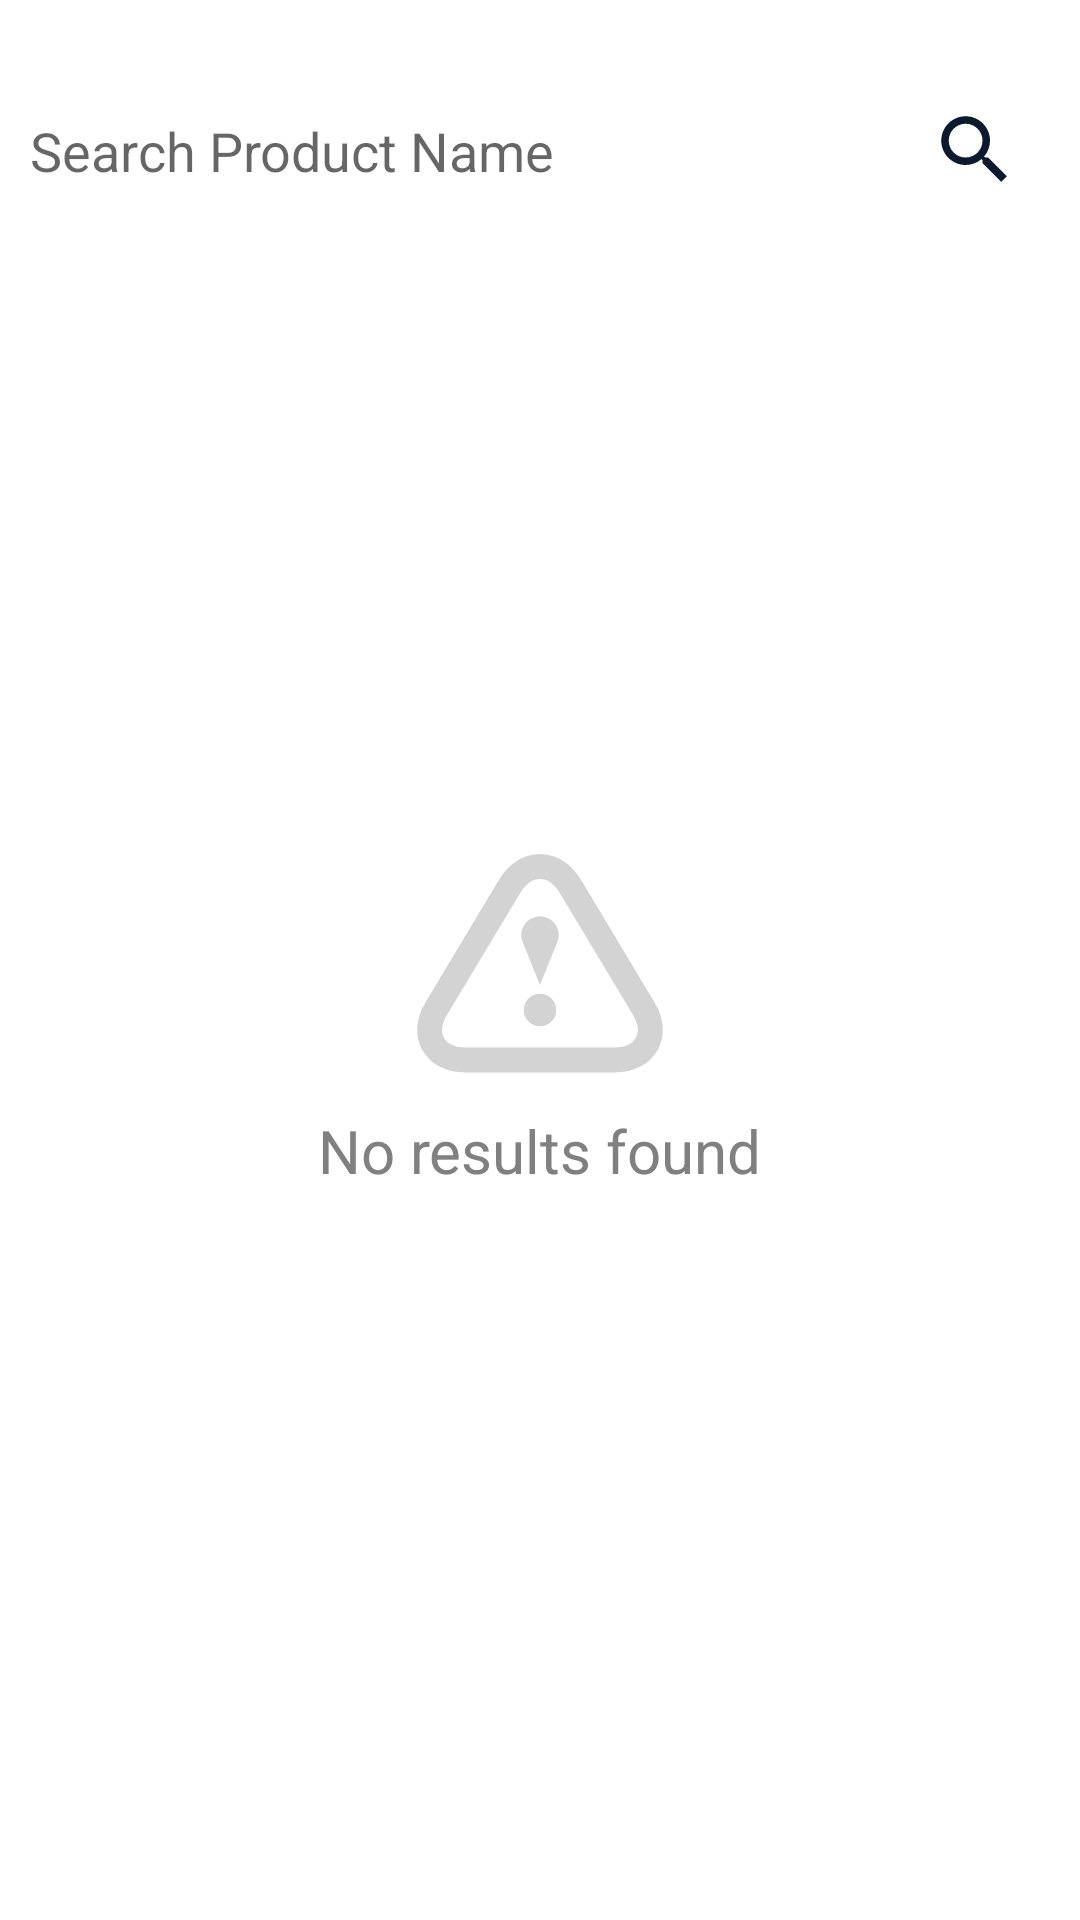

Icon click points for this 1080 x 1920 phone screenshot, format point (x, y):
warning: point (540, 963)
